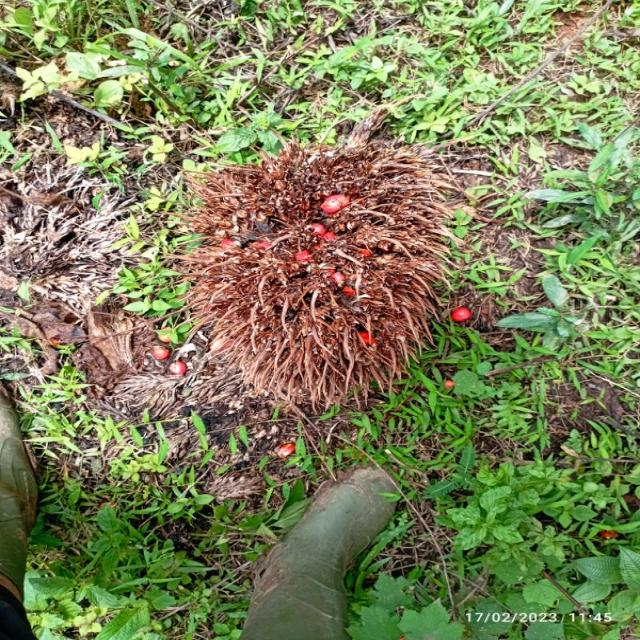fraksi 4: (140, 108, 479, 431)
